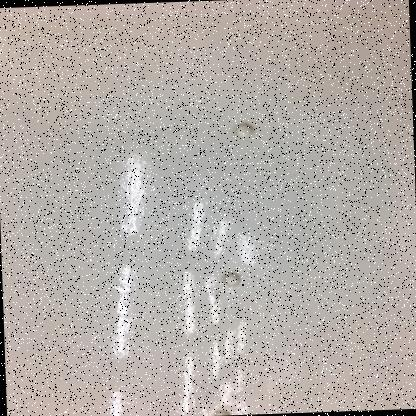Nocrack: (21, 15, 403, 406)
